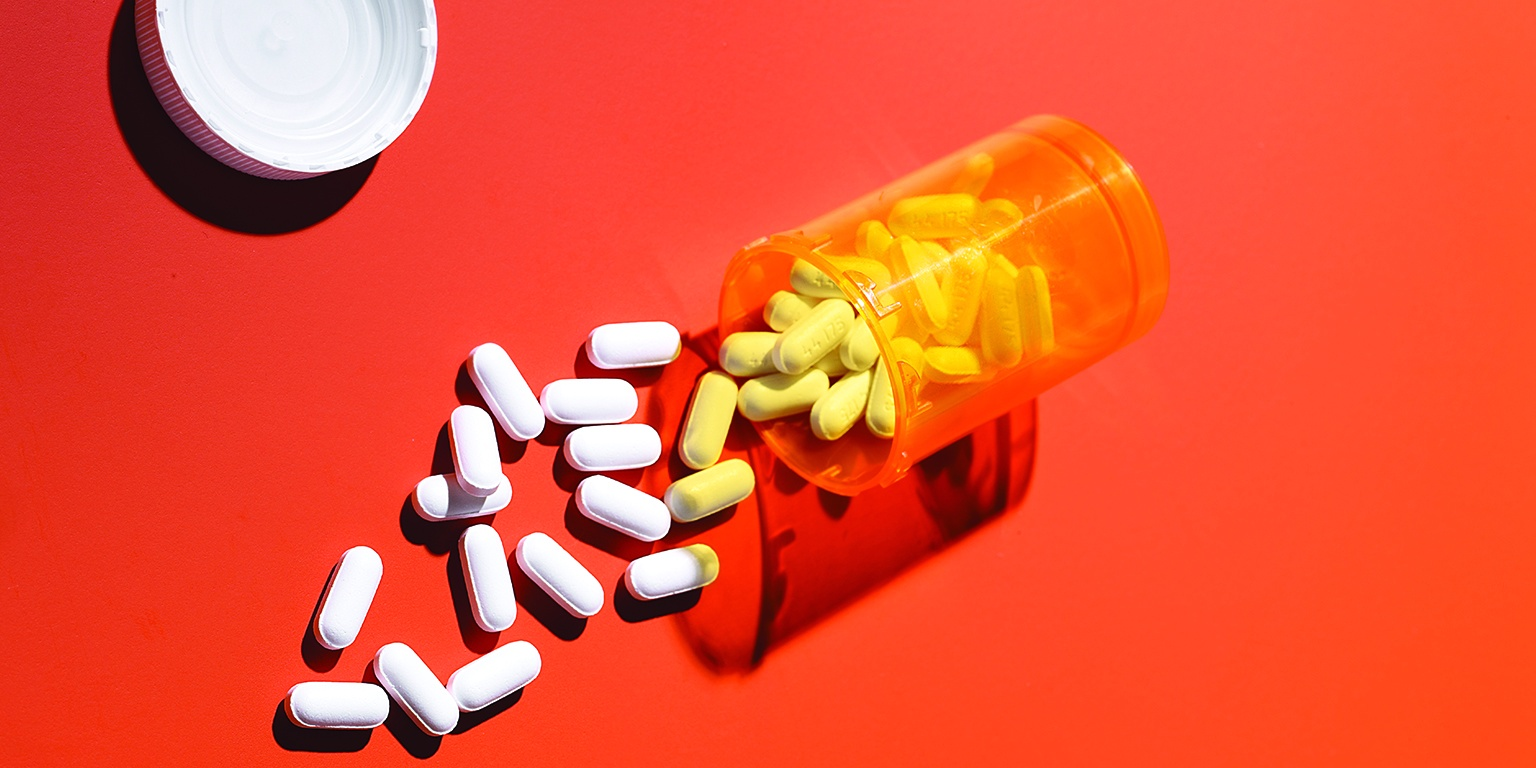pills: (630, 537, 715, 610), (675, 451, 760, 524), (455, 643, 540, 716), (575, 477, 670, 540), (568, 427, 664, 476), (421, 468, 517, 517), (291, 682, 387, 731), (543, 377, 639, 426), (582, 321, 694, 361)
